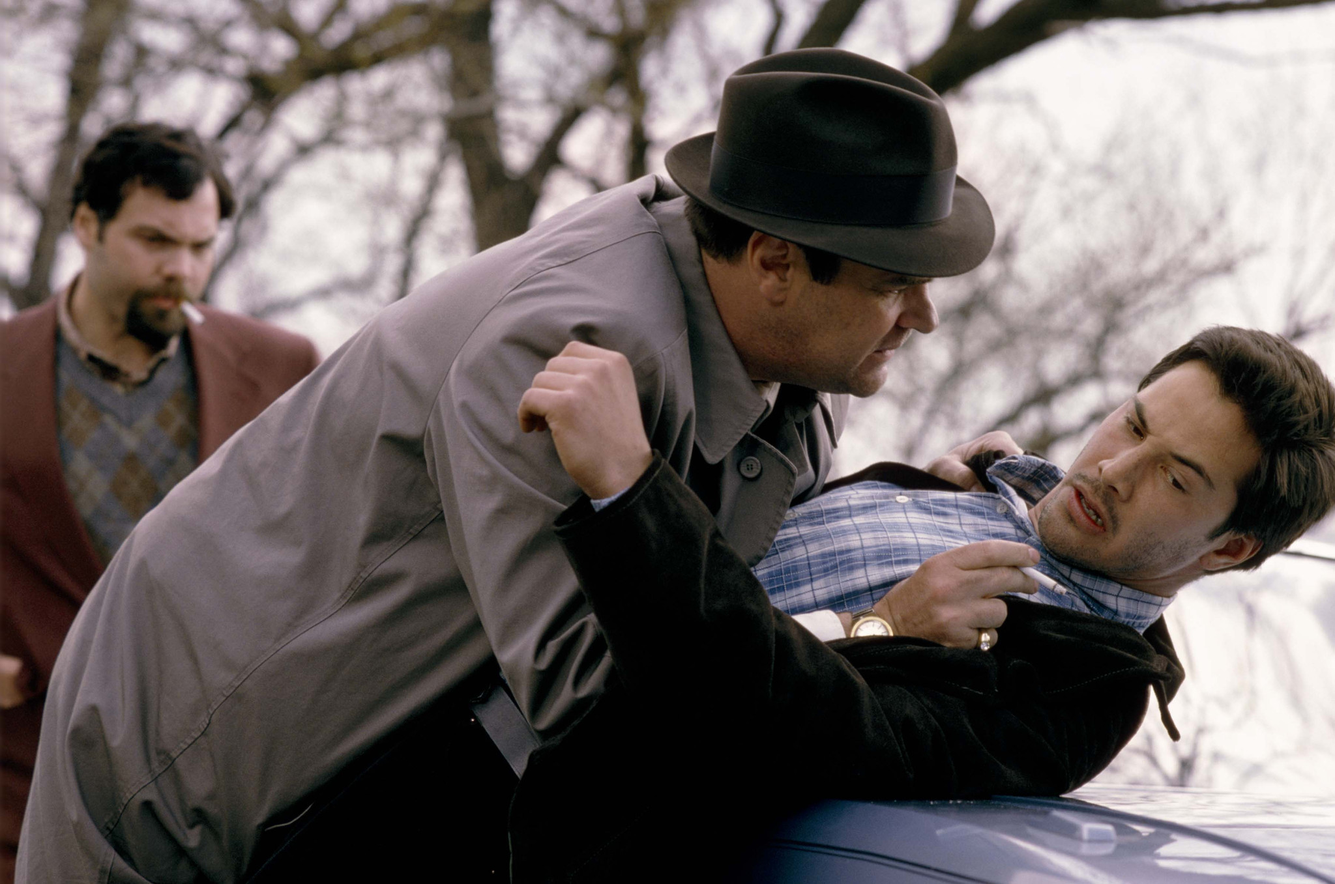16: (774, 162, 965, 425)
30: (1012, 336, 1279, 605)
35: (80, 156, 235, 355)
Belt: (448, 669, 557, 799)
Coat: (6, 156, 905, 884), (497, 448, 1232, 883), (1, 272, 325, 857)
Female: (774, 162, 965, 425)
Hat: (656, 44, 1007, 284)
Male: (1012, 336, 1279, 605), (80, 156, 235, 355)
Ring: (970, 627, 995, 660)
T-shirt: (724, 446, 1193, 650), (48, 264, 186, 387)
Watch: (831, 599, 904, 657)
Woolen Sweater: (42, 312, 219, 599)
